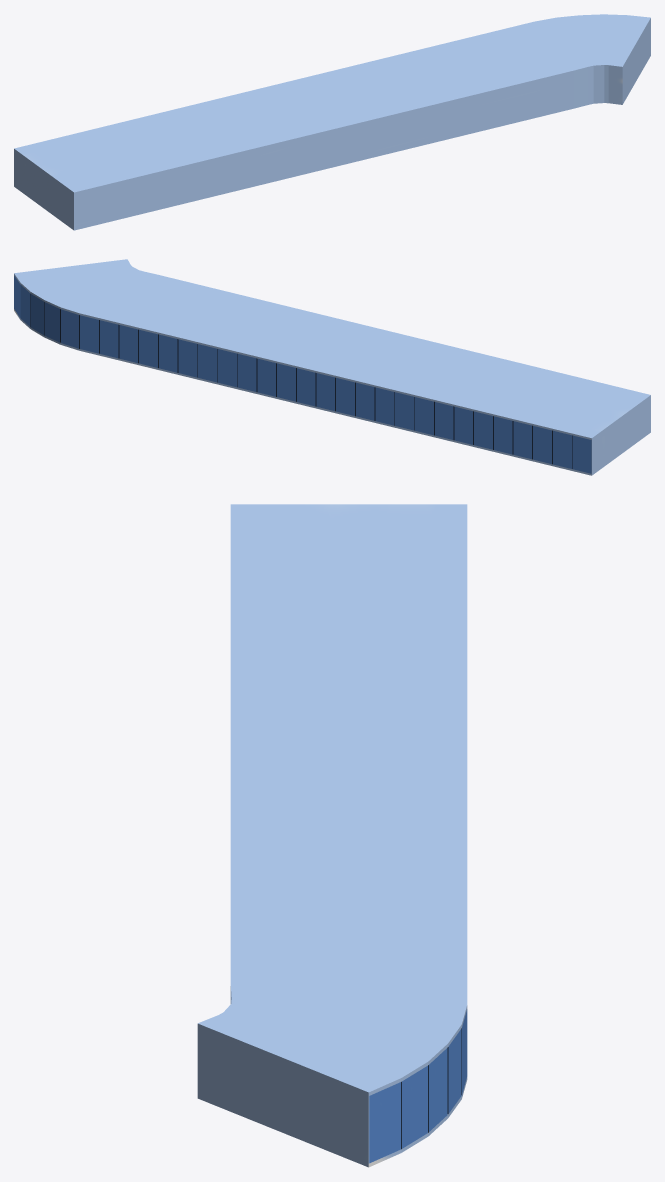
Rendered from GSC building.fbx.
3 renders of one model, top to bottom at view 1: azimuth 30°, elevation 25°; view 2: azimuth 150°, elevation 25°; view 3: azimuth 270°, elevation 25°, orthographic. The views are drawn at different scales.
Visible parts, largest first — view 1: GSC-Building; view 2: GSC-Building; view 3: GSC-Building.
Part boxes in pixels (x1,y1,x2,y2): GSC-Building: (14, 14, 650, 230); GSC-Building: (14, 259, 650, 475); GSC-Building: (197, 504, 467, 1167).
Size of the model in its own units: 5881 by 350 by 1140.
